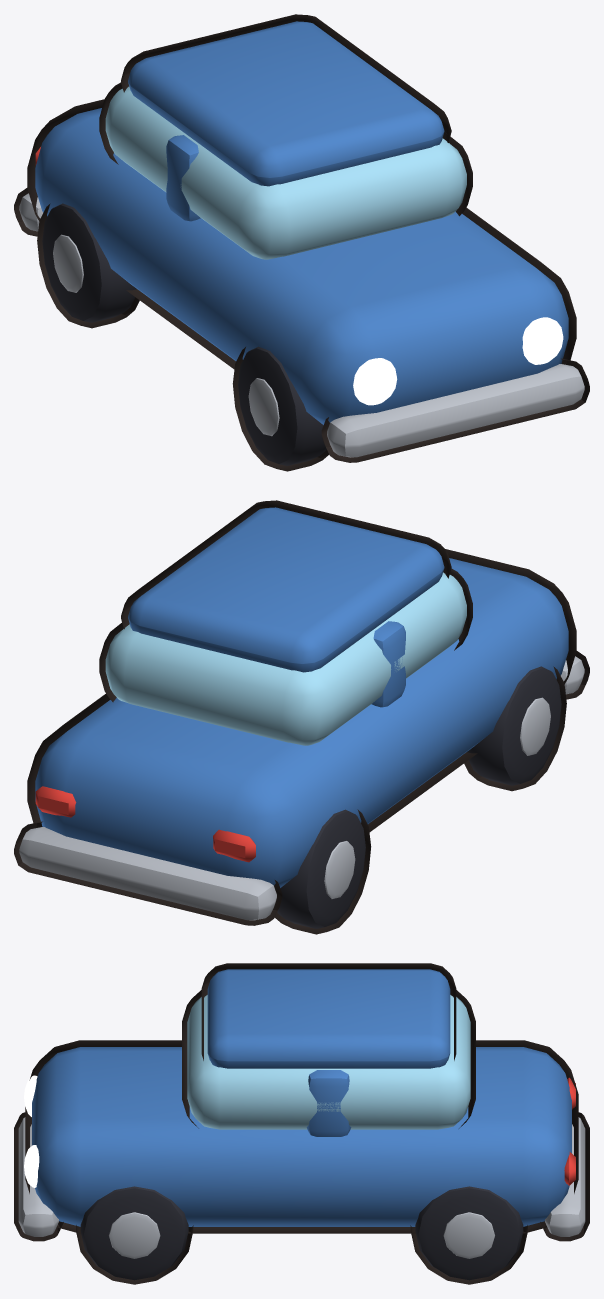
Rendered from Car_Sedan_Blue.fbx.
3 views of the same model, one above another, from view 1: azimuth 30°, elevation 25°; view 2: azimuth 150°, elevation 25°; view 3: azimuth 270°, elevation 25° (orthographic). The views are drawn at different scales.
Parts seen in each view (by area): view 1: VH_Car_Sedan_Blue_AwningBlue, VH_Car_Sedan_Blue_Window, VH_Car_Sedan_Blue_MetalLight, VH_Car_Sedan_Blue_Outline, VH_Car_Sedan_Blue_Black, VH_Car_Sedan_Blue_LampWarm; view 2: VH_Car_Sedan_Blue_AwningBlue, VH_Car_Sedan_Blue_Window, VH_Car_Sedan_Blue_MetalLight, VH_Car_Sedan_Blue_Outline, VH_Car_Sedan_Blue_Black, VH_Car_Sedan_Blue_Red; view 3: VH_Car_Sedan_Blue_AwningBlue, VH_Car_Sedan_Blue_Window, VH_Car_Sedan_Blue_Black, VH_Car_Sedan_Blue_Outline, VH_Car_Sedan_Blue_MetalLight, VH_Car_Sedan_Blue_LampWarm, VH_Car_Sedan_Blue_Red.
Boxes of the visible parts, left/top/right/bottom form: VH_Car_Sedan_Blue_AwningBlue: left=35, top=21, right=568, bottom=424; VH_Car_Sedan_Blue_Window: left=105, top=86, right=466, bottom=259; VH_Car_Sedan_Blue_MetalLight: left=19, top=193, right=584, bottom=457; VH_Car_Sedan_Blue_Outline: left=14, top=14, right=589, bottom=471; VH_Car_Sedan_Blue_Black: left=42, top=203, right=326, bottom=465; VH_Car_Sedan_Blue_LampWarm: left=353, top=317, right=563, bottom=405; VH_Car_Sedan_Blue_AwningBlue: left=35, top=507, right=568, bottom=887; VH_Car_Sedan_Blue_Window: left=105, top=572, right=466, bottom=745; VH_Car_Sedan_Blue_MetalLight: left=19, top=656, right=584, bottom=920; VH_Car_Sedan_Blue_Outline: left=14, top=500, right=589, bottom=934; VH_Car_Sedan_Blue_Black: left=277, top=666, right=561, bottom=928; VH_Car_Sedan_Blue_Red: left=35, top=786, right=255, bottom=862; VH_Car_Sedan_Blue_AwningBlue: left=32, top=969, right=571, bottom=1226; VH_Car_Sedan_Blue_Window: left=187, top=995, right=470, bottom=1129; VH_Car_Sedan_Blue_Black: left=80, top=1186, right=523, bottom=1280; VH_Car_Sedan_Blue_Outline: left=14, top=963, right=589, bottom=1284; VH_Car_Sedan_Blue_MetalLight: left=18, top=1117, right=585, bottom=1258; VH_Car_Sedan_Blue_LampWarm: left=24, top=1075, right=39, bottom=1187; VH_Car_Sedan_Blue_Red: left=564, top=1077, right=575, bottom=1185.
Bounding box in the file's own units: 2.05 × 1.92 × 4.27.
